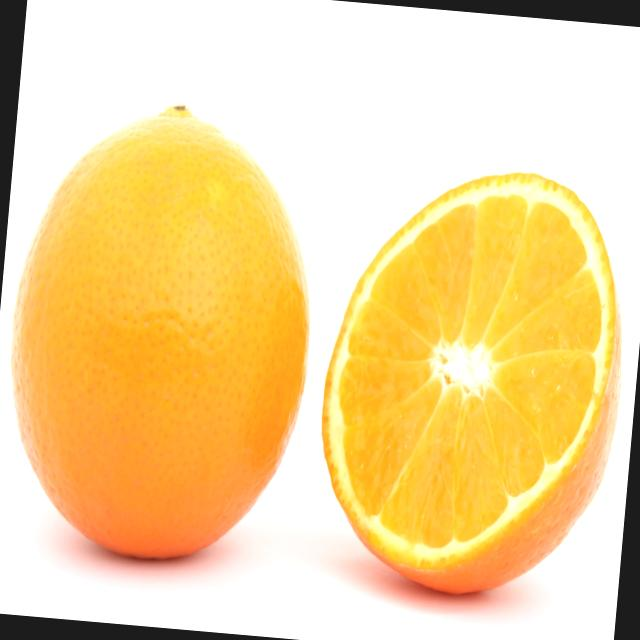orange: (0, 95, 326, 605)
